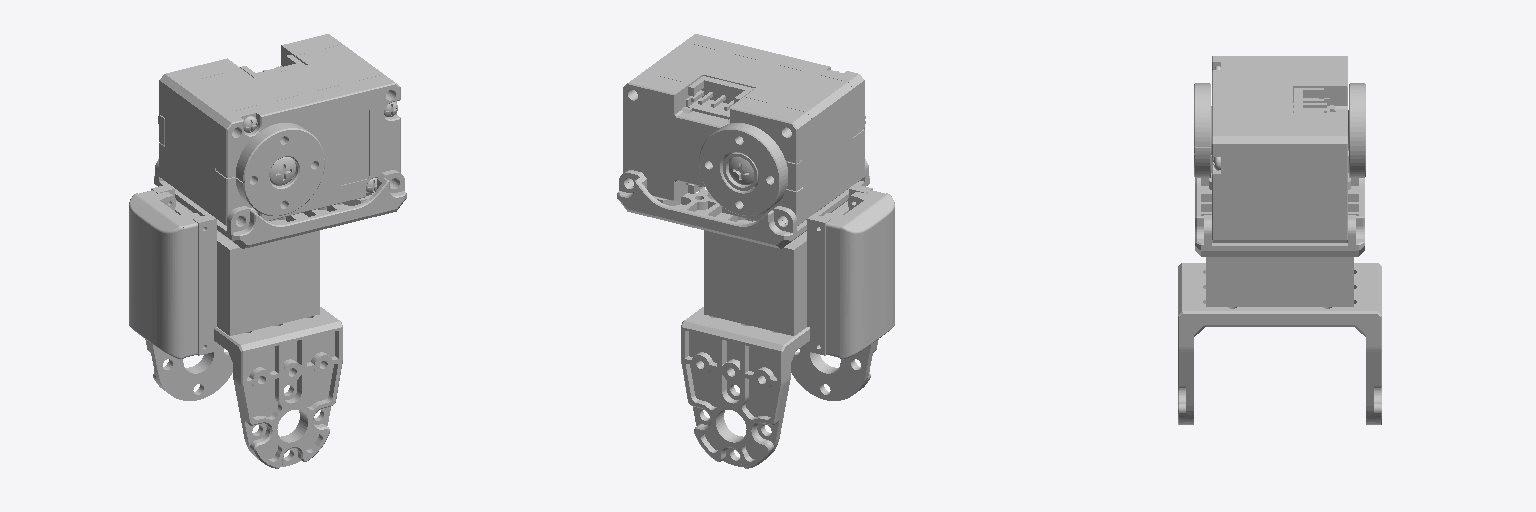
File: dip_new_convex.obj
The picture shows the model from 3 angles: view 1: azimuth 30°, elevation 25°; view 2: azimuth 150°, elevation 25°; view 3: azimuth 270°, elevation 25°; orthographic projection.
Parts seen in each view (by area): view 1: dip_for_urdf; view 2: dip_for_urdf; view 3: dip_for_urdf.
Boxes of the visible parts, box(x1,y1,x2,y2) form: dip_for_urdf: box(129, 34, 406, 468); dip_for_urdf: box(617, 34, 894, 468); dip_for_urdf: box(1178, 56, 1381, 424).
Size of the model in its own units: 0.0434 by 0.0641 by 0.0346.